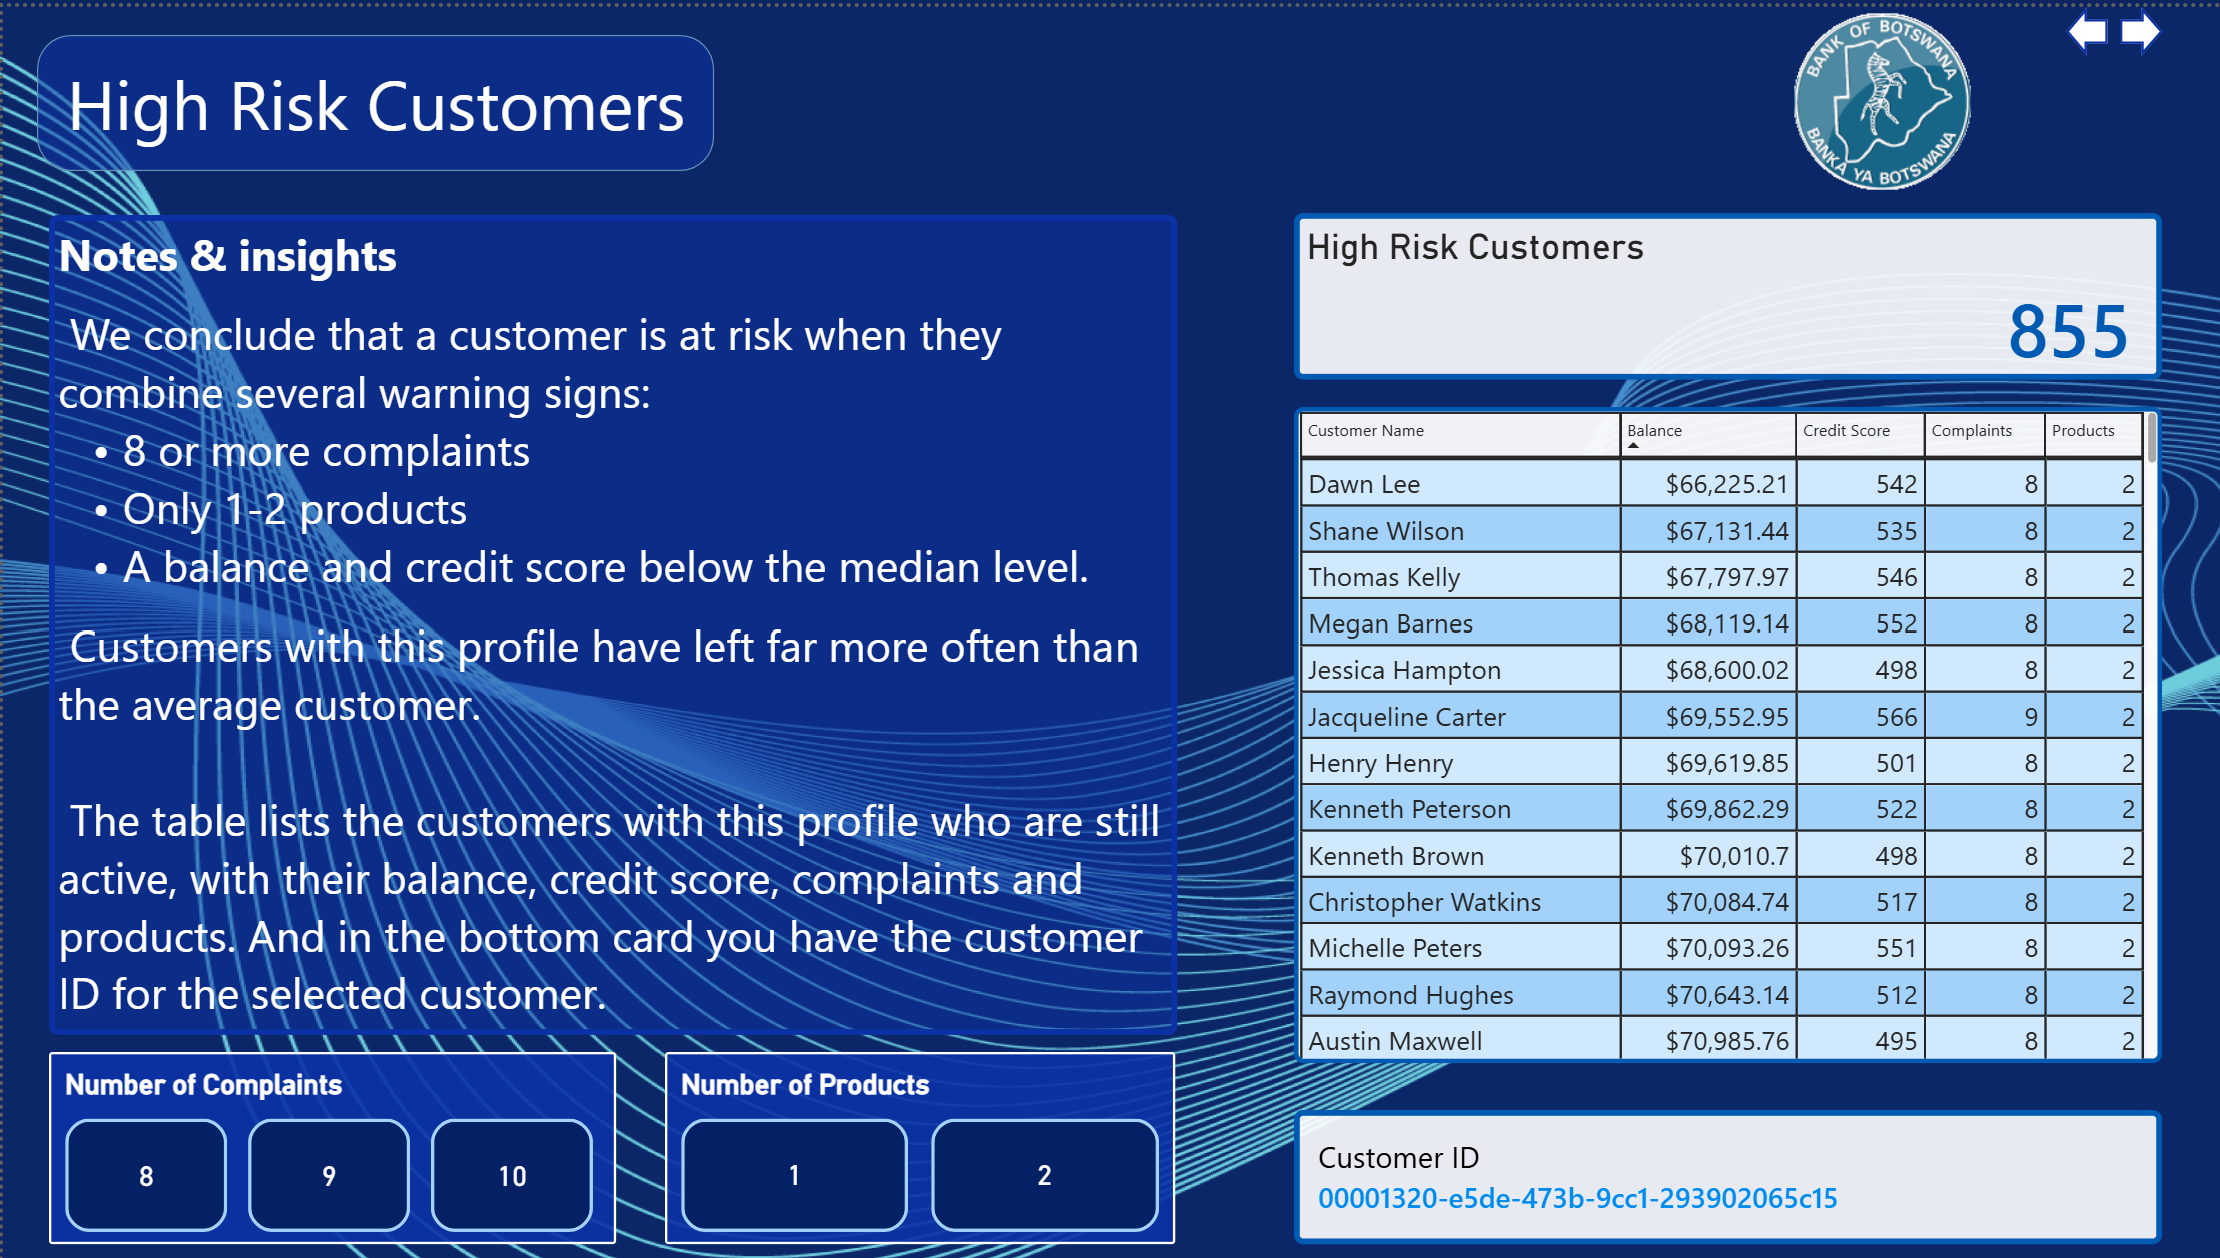

What the dashboard file says about the page in this screenshot:
{"tool":"powerbi","page":{"name":"High Risk","canvas":[1920,1080],"ordinal":4},"visuals":[{"type":"shape","box":[30,25,585,117.5],"z":0},{"type":"cardVisual","fields":{"Data":["Min(Bank Info.CustomerId)"]},"box":[1114,952,750,116],"z":1000},{"type":"cardVisual","title":"High Risk Customers","fields":{"Data":["CountNonNull(Bank Info.CustomerId)"]},"box":[1114,178,750,144],"z":2000},{"type":"tableEx","fields":{"Values":["Customer Info.Customer Name","Bank Info. Balance ","Bank Info.Credit Score","Bank Info.NumComplaints","Bank Info.NumOfProducts"]},"box":[1114,346,750,566],"z":3000},{"type":"textbox","box":[54.9,43.2,543.1,89.2],"z":4000},{"type":"textbox","box":[39,179.1,973.8,707.4],"z":5000},{"type":"advancedSlicerVisual","title":"  Number of Complaints","fields":{"Values":["Bank Info.NumComplaints"]},"box":[40,902,490,166],"z":6000},{"type":"advancedSlicerVisual","fields":{"Values":["Bank Info.NumOfProducts"]},"box":[572,902,440,166],"z":7000},{"type":"image","box":[1521.7,0,202.7,164.5],"z":8000},{"type":"shape","box":[1828.8,0,37,42.3],"z":9000},{"type":"shape","box":[1782,0,36,42.3],"z":10000}]}

Visuals, with their boxes in screenshot pixels (x1, y1, x2, y2), scaled from the page's 1920x1080 canvas onto the 2220x1258 screenshot:
shape: <box>35,29,711,166</box>
cardVisual - Min(Bank Info.CustomerId): <box>1288,1109,2155,1244</box>
"High Risk Customers" cardVisual: <box>1288,207,2155,375</box>
tableEx - Customer Info.Customer Name x Bank Info. Balance : <box>1288,403,2155,1062</box>
textbox: <box>63,50,691,154</box>
textbox: <box>45,209,1171,1033</box>
"  Number of Complaints" advancedSlicerVisual: <box>46,1051,613,1244</box>
advancedSlicerVisual - Bank Info.NumOfProducts: <box>661,1051,1170,1244</box>
image: <box>1759,0,1994,192</box>
shape: <box>2115,0,2157,49</box>
shape: <box>2060,0,2102,49</box>
